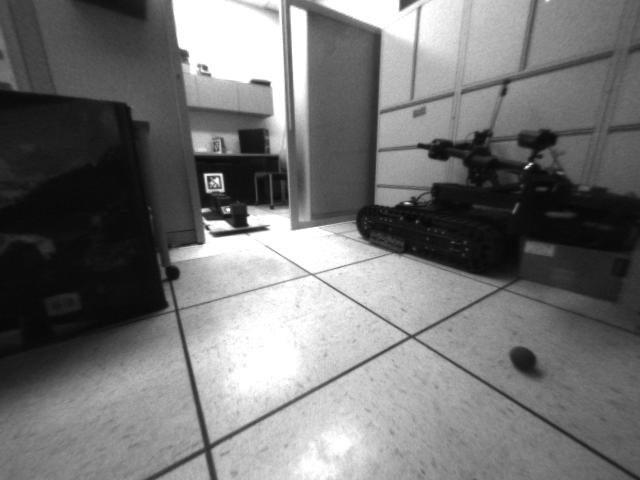dogtoy: (502, 339, 549, 382)
